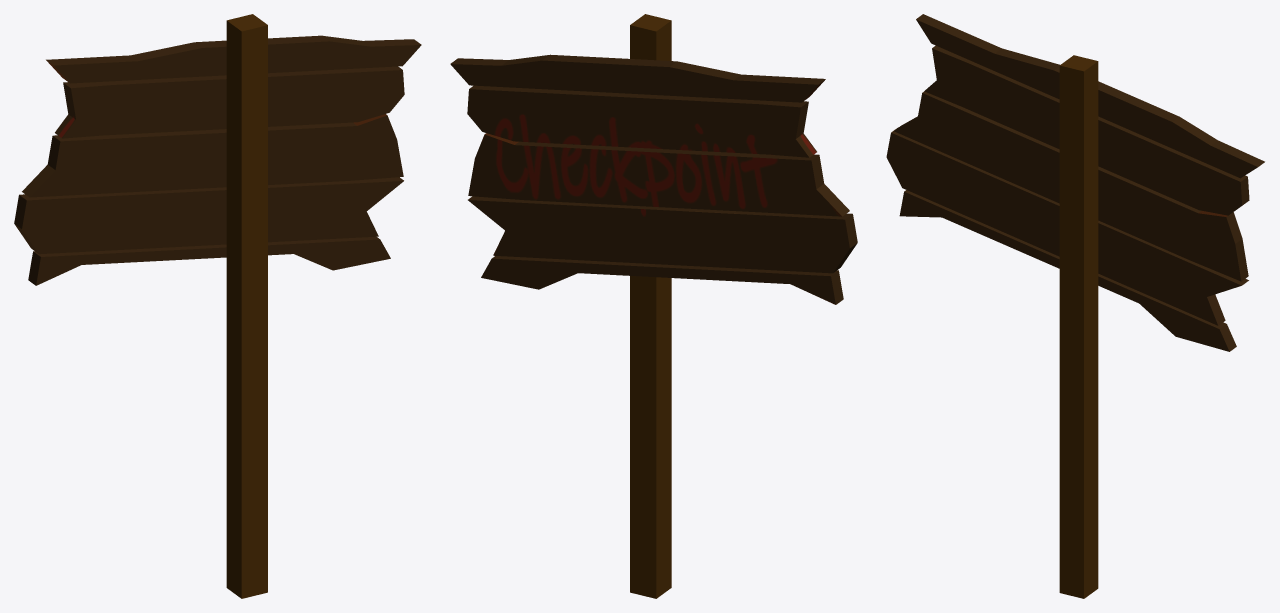
Rendered from CheckPoint.fbx.
3 renders of one model, left to right at view 1: azimuth 30°, elevation 25°; view 2: azimuth 150°, elevation 25°; view 3: azimuth 330°, elevation 25°, orthographic. The views are drawn at different scales.
Visible parts, largest first — view 1: Cube.005, Cube; view 2: Cube.005, Cube; view 3: Cube.005, Cube.
Boxes of the visible parts, x1=… form: Cube.005: x1=14, y1=35, x2=421, y2=285; Cube: x1=226, y1=14, x2=267, y2=598; Cube.005: x1=450, y1=54, x2=857, y2=304; Cube: x1=630, y1=14, x2=671, y2=598; Cube.005: x1=886, y1=14, x2=1264, y2=351; Cube: x1=1059, y1=55, x2=1098, y2=598.
Size of the model in its own units: 147 by 200 by 15.72.
